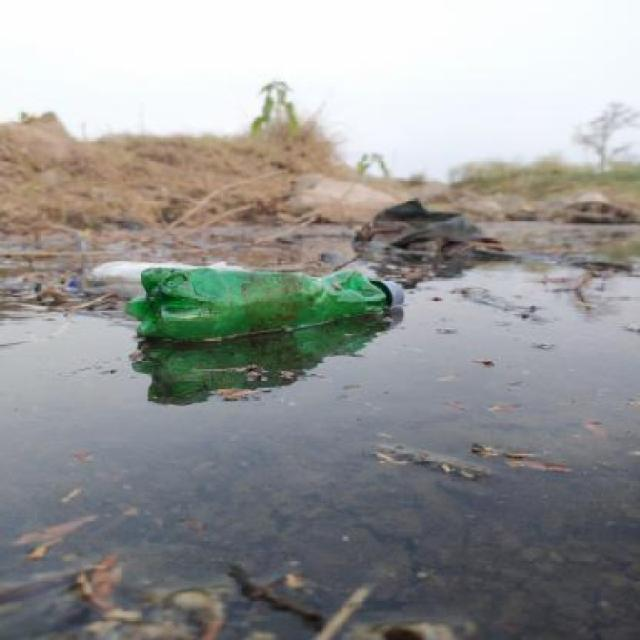bottle: (126, 254, 409, 353)
